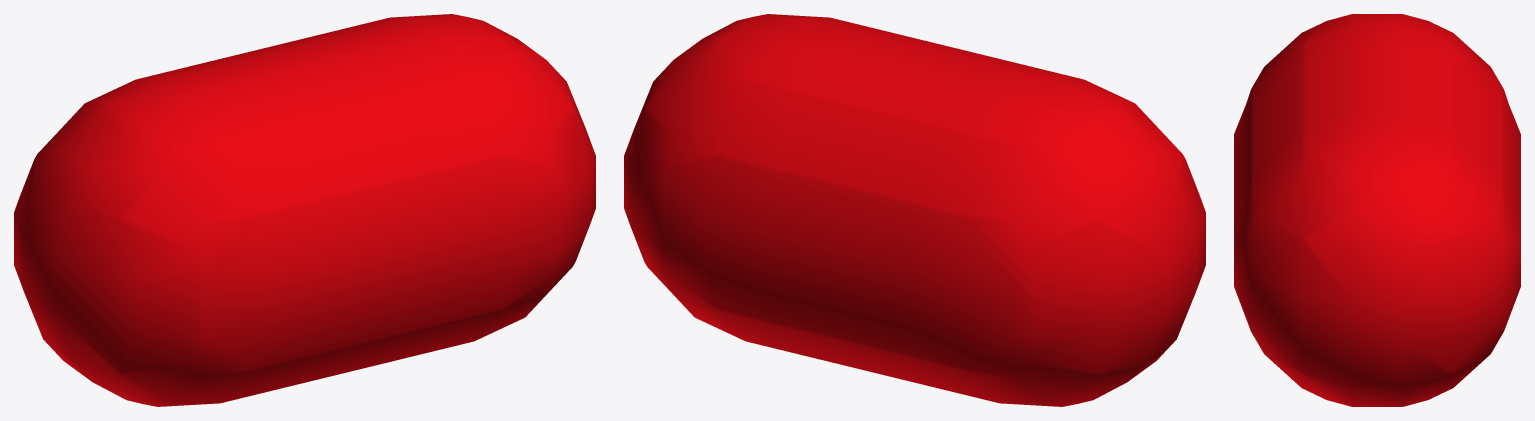
File: bob 1.fbx
3 renders of one model, left to right at view 1: azimuth 30°, elevation 25°; view 2: azimuth 150°, elevation 25°; view 3: azimuth 270°, elevation 25°, orthographic. The views are drawn at different scales.
Visible parts, largest first — view 1: Mball; view 2: Mball; view 3: Mball.
Part boxes in pixels (left/top/right/bottom): Mball: left=14, top=14, right=595, bottom=406; Mball: left=624, top=14, right=1205, bottom=406; Mball: left=1234, top=14, right=1520, bottom=406.
Size of the model in its own units: 334 by 179 by 179.
